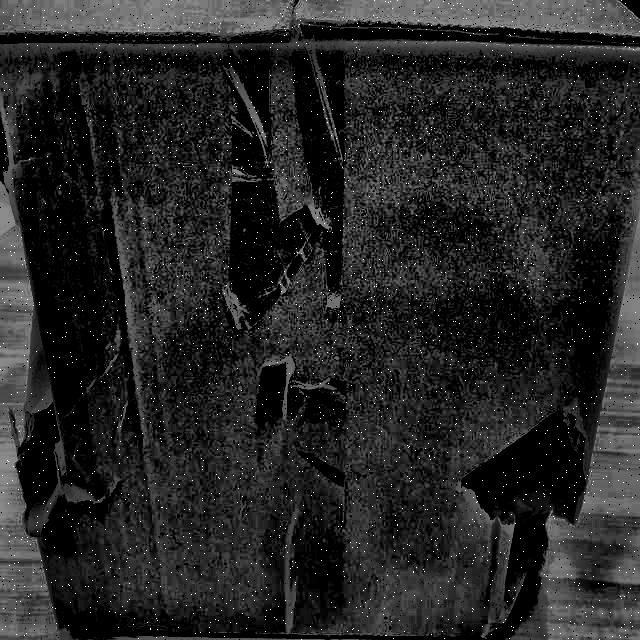box: (1, 0, 640, 639)
hole: (445, 394, 600, 600), (15, 378, 81, 553)
